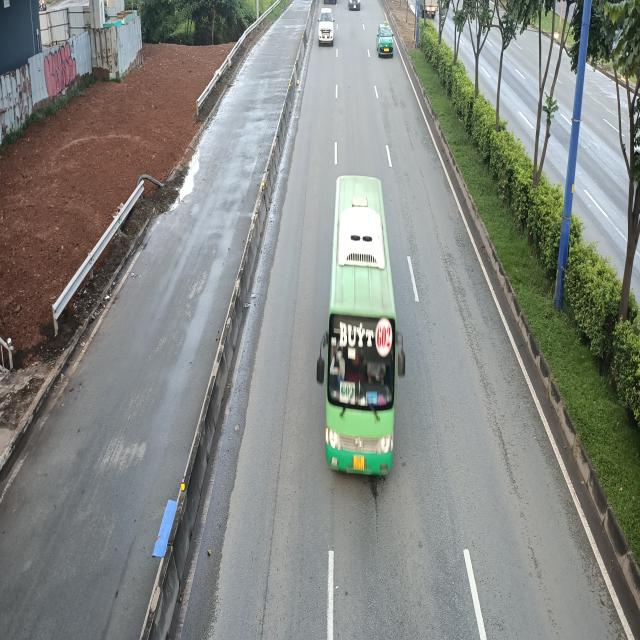car: (317, 6, 334, 45), (377, 22, 395, 56)
coach: (316, 171, 406, 475)
